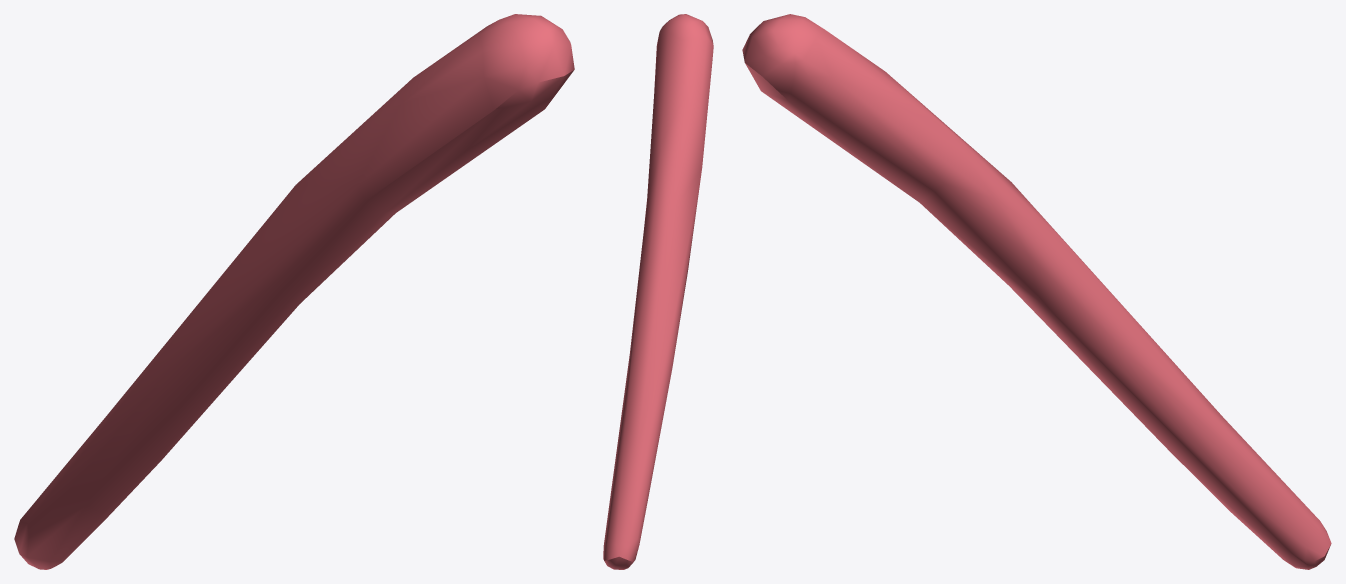
File: fma9428_fj6125.glb
3 renders of one model, left to right at view 1: azimuth 30°, elevation 25°; view 2: azimuth 150°, elevation 25°; view 3: azimuth 270°, elevation 25°, orthographic. The views are drawn at different scales.
Parts seen in each view (by area): view 1: FMA9428_FJ6125; view 2: FMA9428_FJ6125; view 3: FMA9428_FJ6125.
Boxes of the visible parts, x1,y1,x2,y2 form: FMA9428_FJ6125: (14, 14, 574, 569); FMA9428_FJ6125: (603, 14, 713, 569); FMA9428_FJ6125: (742, 14, 1331, 569).
Bounding box in the file's own units: 0.0101 × 0.0281 × 0.024.
